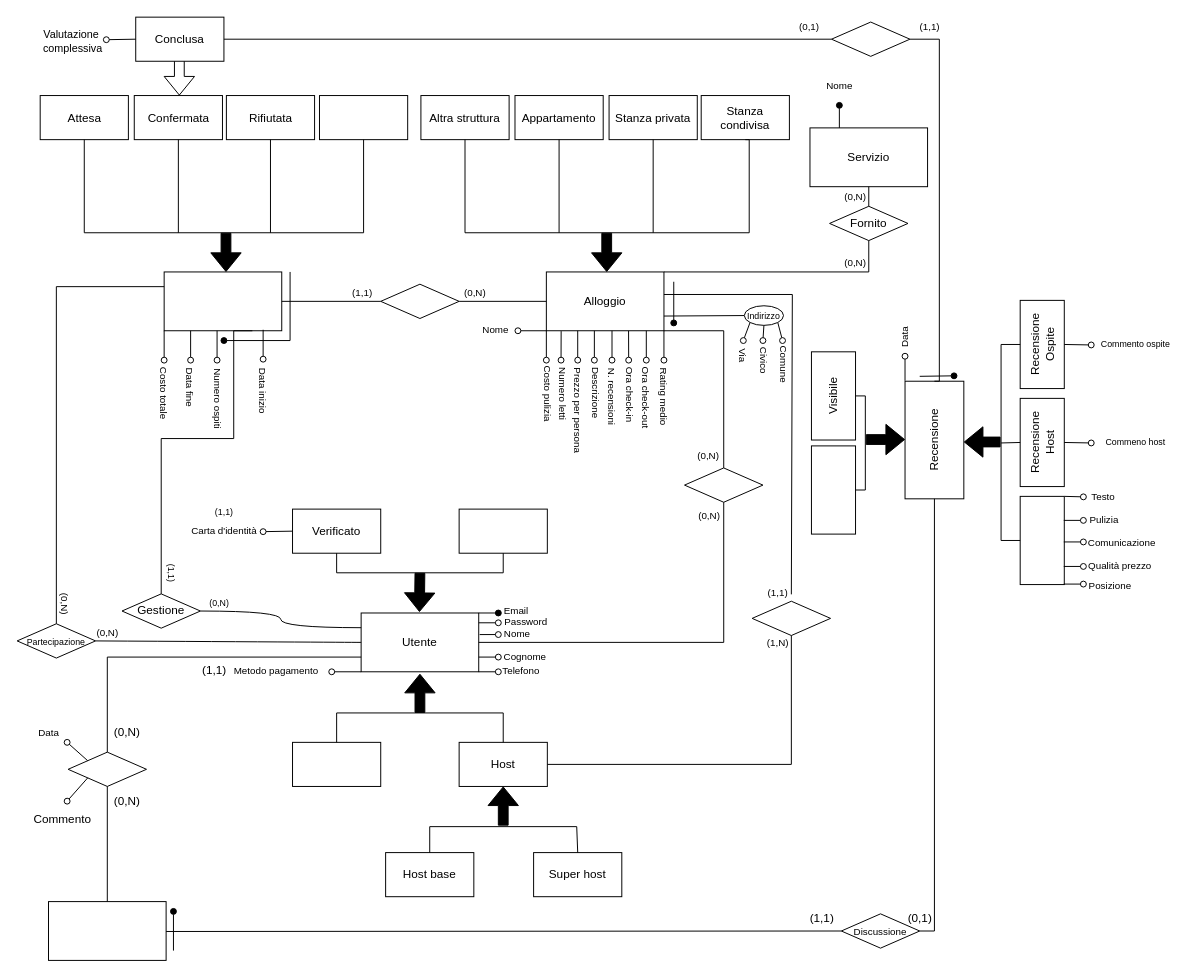
The diagram is 1197 pixels wide and 978 high, and some of its shapes have lost their labels. The centre of each missing label's shape, as x and y in pixels:
Cancellata: the point at 363,117
Non Verificato: the point at 502,530
Non visibile: the point at 833,489
Ospite: the point at 336,763
Pernottazione: the point at 419,300
Preferito: the point at 723,484
Prenotazione: the point at 222,301
Proprietà: the point at 791,618
Recensione Alloggio: the point at 1041,540
Risposta: the point at 107,768
Thread discussione: the point at 107,930
Valutazione: the point at 870,38
